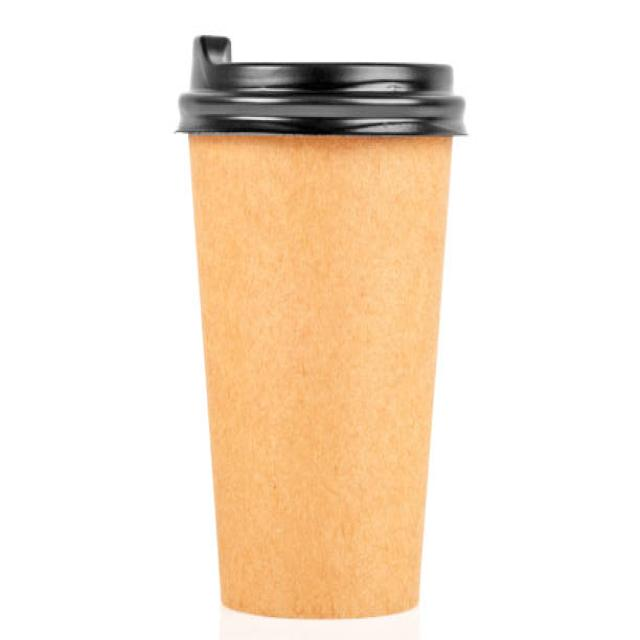cup: (170, 60, 470, 634)
